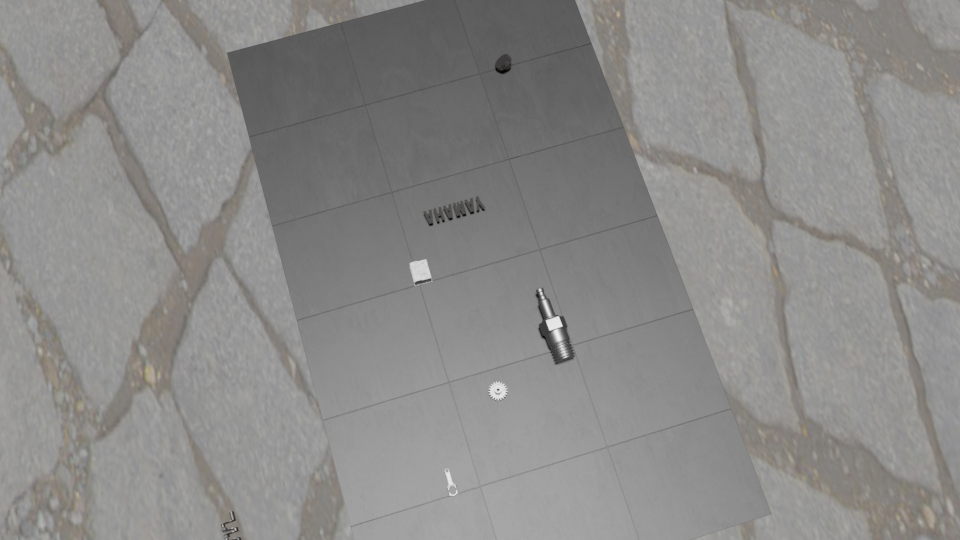yamaha_letters: (422, 195, 485, 224)
